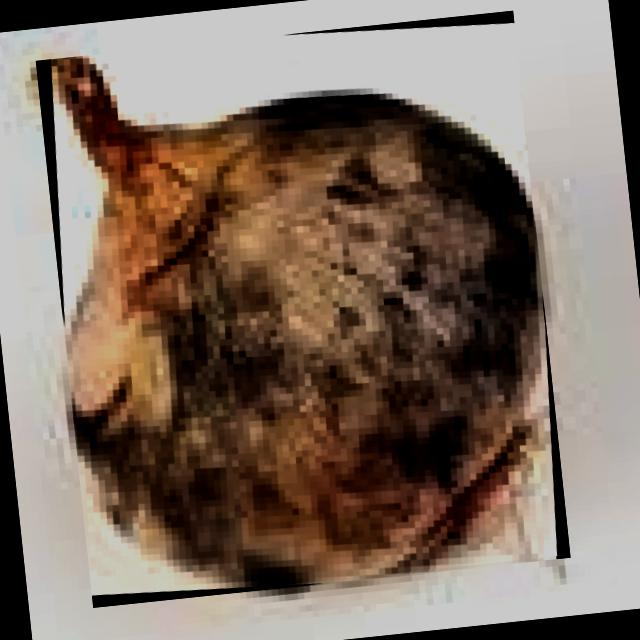mould: (49, 56, 544, 587)
